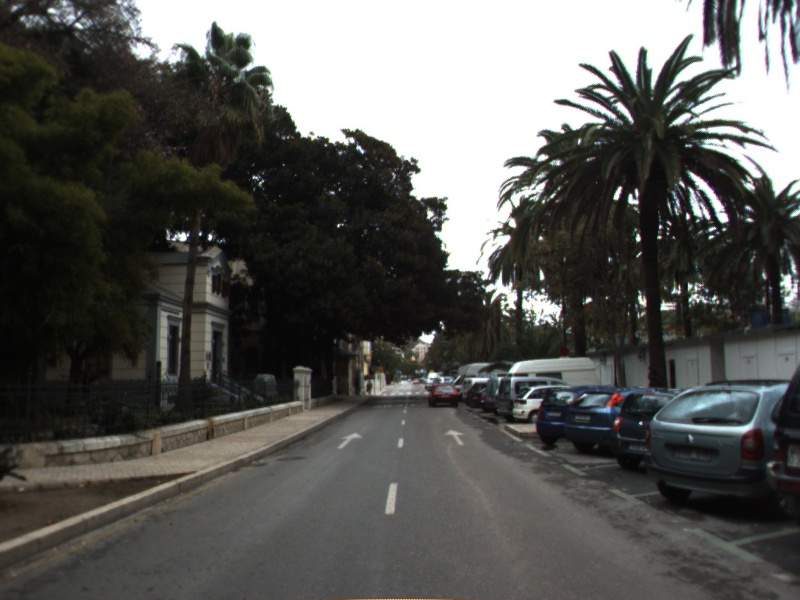STRAIGHT: (335, 430, 365, 451), (442, 427, 468, 447)
